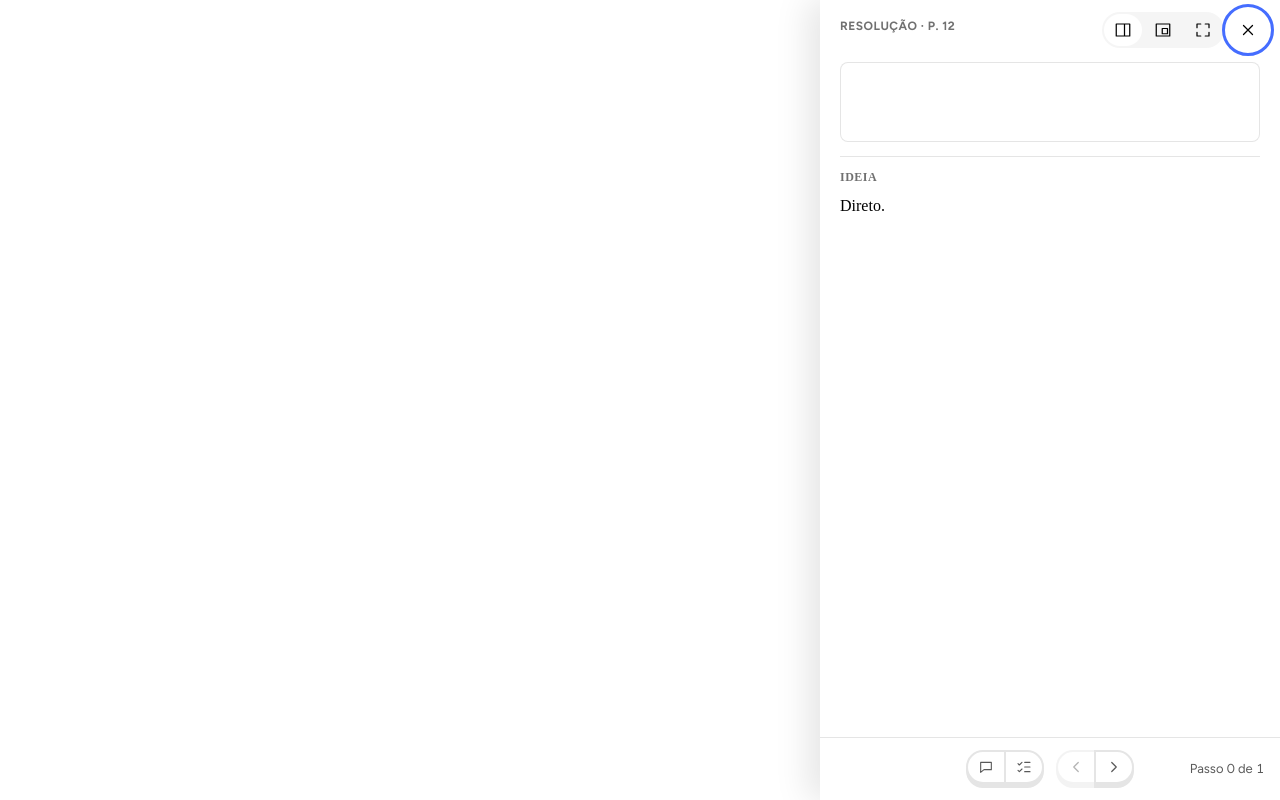
Test: item sem passos: a resposta é o único passo
Check: the text "Direto." is shown, box [840,197,885,214]
Check: the text "Vale 7." is not shown
Click the button named "Mostrar o primeiro passo" at (1114, 767), box [1094,750,1134,784]
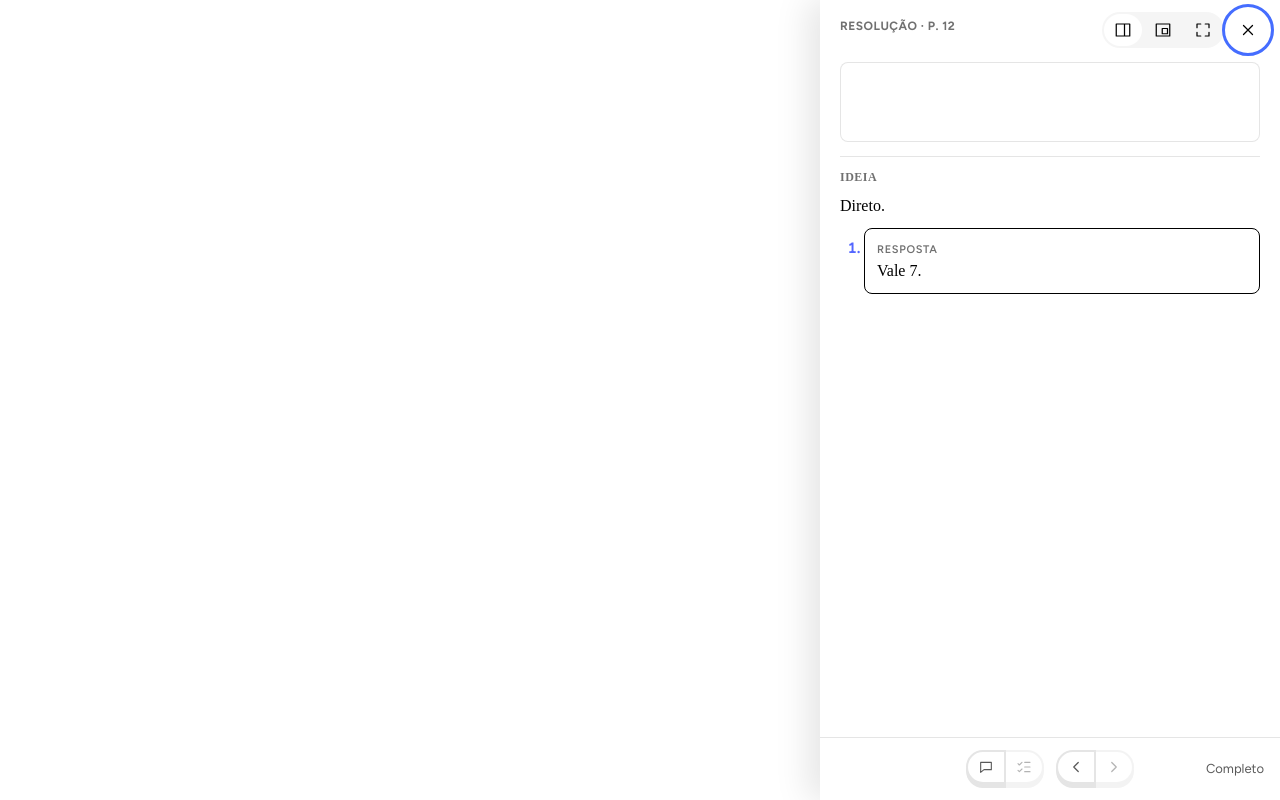
Check: the list item with aria-label "Resposta" reads "Vale 7.", box [877,262,921,279]
